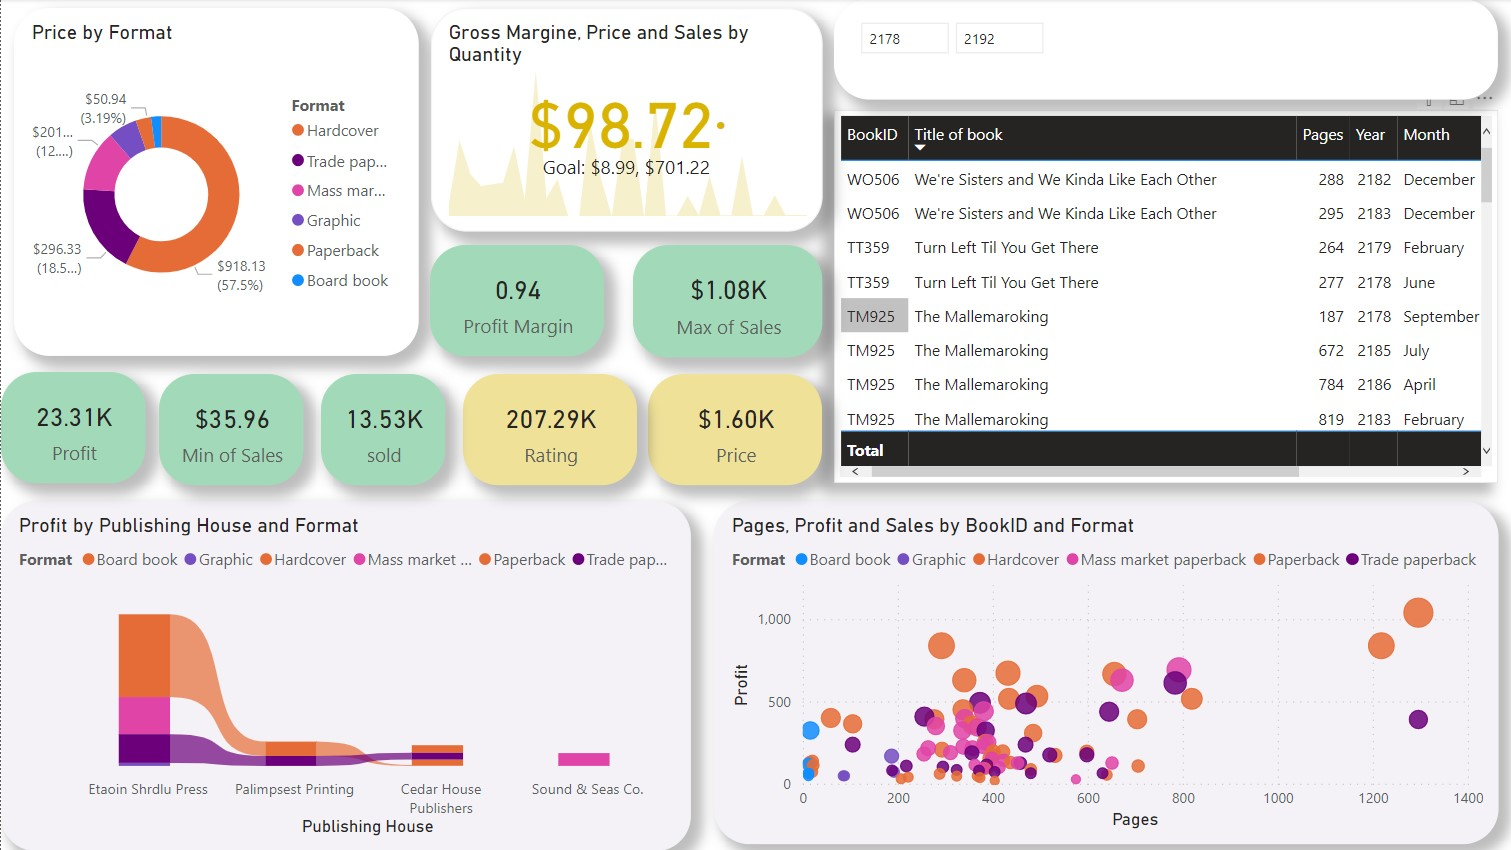

This screenshot's page, from the dashboard's own definition file:
{"tool":"powerbi","page":{"name":"Page 4","canvas":[1280,720],"ordinal":1},"visuals":[{"type":"donutChart","fields":{"Category":["edition.Format"],"Y":["Sum(edition.Price)"]},"box":[11,7.6,342.3,294.1],"z":0},{"type":"ribbonChart","fields":{"Y":["edition.Profit"],"Category":["publisher.Publishing House"],"Series":["edition.Format"]},"box":[0,424.2,583.1,295.8],"z":1000},{"type":"scatterChart","fields":{"Series":["edition.Format"],"Size":["Sum(edition.Sales)"],"Y":["edition.Profit"],"X":["Sum(edition.Pages)"],"Category":["edition.BookID"]},"box":[602.5,424.2,662.5,289.9],"z":2000},{"type":"tableEx","fields":{"Values":["BooksShop.BookID","BooksShop.Title","edition.Pages","edition.Publication Date.Variation.Date Hierarchy.Year","edition.Publication Date.Variation.Date Hierarchy.Month","edition.Publication Date.Variation.Date Hierarchy.Day","Sum(edition.Price)"]},"box":[703.9,93.8,561.1,315.2],"z":3000},{"type":"kpi","fields":{"Indicator":["Sum(edition.Gross Margine)"],"Goal":["Sum(edition.Price)","Sum(edition.Sales)"],"TrendLine":["edition.Quantity"]},"box":[363.1,7.8,331.2,188.9],"z":4000},{"type":"card","fields":{"Values":["edition.Profit Margin"]},"box":[362.5,207.9,147,93.8],"z":5000},{"type":"card","fields":{"Values":["Max(edition.Sales)"]},"box":[534.1,207.9,159.7,94.6],"z":6000},{"type":"card","fields":{"Values":["edition.Profit"]},"box":[0,314.9,122.5,94],"z":7000},{"type":"card","fields":{"Values":["Min(edition.Sales)"]},"box":[133.7,316.6,122.5,94],"z":8000},{"type":"card","fields":{"Values":["Sum(edition.Price)"]},"box":[546.8,316.9,147,93.8],"z":9000},{"type":"card","fields":{"Values":["Sum(ratings(1).Rating)"]},"box":[390.7,316.6,146.6,94],"z":10000},{"type":"card","fields":{"Values":["Sum(checkouts.Number of Checkouts)"]},"box":[270.8,316.6,105.2,94],"z":11000},{"type":"slicer","fields":{"Values":["edition.Publication Date.Variation.Date Hierarchy.Year"]},"box":[703.9,0,561.1,85.4],"z":12000}]}

Visuals, with their boxes in screenshot pixels (x1, y1, x2, y2), scaled from the page's 1280x720 canvas onto the 1511x850 screenshot:
donutChart - edition.Format x Sum(edition.Price): locate(13, 9, 417, 356)
ribbonChart - edition.Profit x publisher.Publishing House: locate(0, 501, 688, 849)
scatterChart - edition.Format x Sum(edition.Sales): locate(711, 501, 1493, 843)
tableEx - BooksShop.BookID x BooksShop.Title: locate(831, 111, 1493, 483)
kpi - Sum(edition.Gross Margine) x Sum(edition.Price): locate(429, 9, 820, 232)
card - edition.Profit Margin: locate(428, 245, 601, 356)
card - Max(edition.Sales): locate(630, 245, 819, 357)
card - edition.Profit: locate(0, 372, 145, 483)
card - Min(edition.Sales): locate(158, 374, 302, 485)
card - Sum(edition.Price): locate(645, 374, 819, 485)
card - Sum(ratings(1).Rating): locate(461, 374, 634, 485)
card - Sum(checkouts.Number of Checkouts): locate(320, 374, 444, 485)
slicer - edition.Publication Date.Variation.Date Hierarchy.Year: locate(831, 0, 1493, 101)
